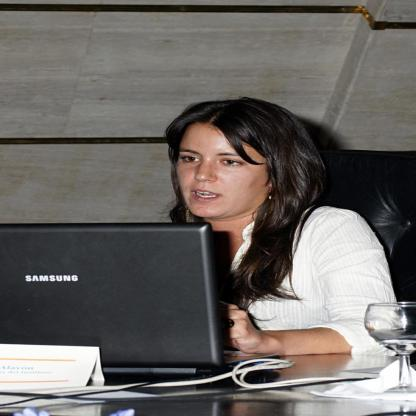board: (1, 224, 284, 374)
